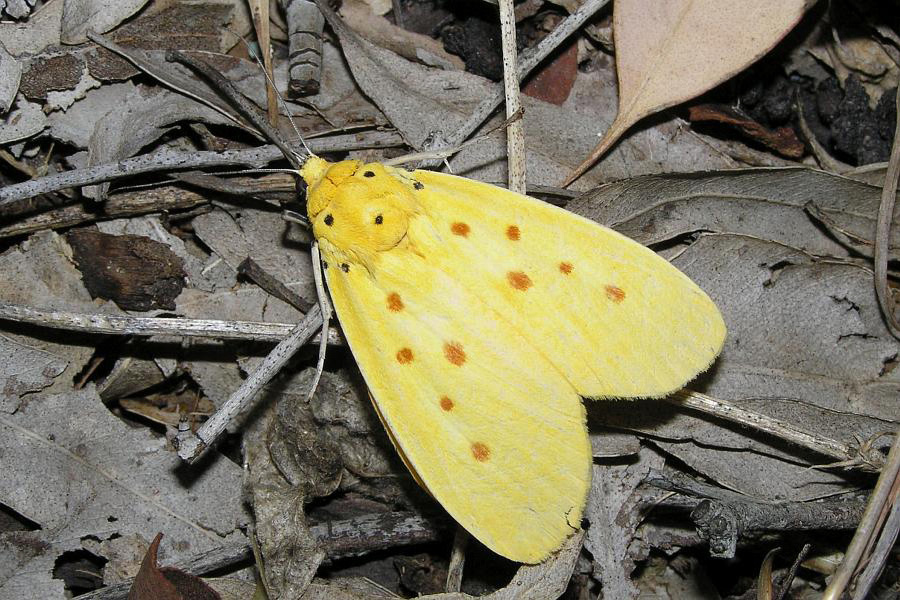Agape chloropyga: (123, 25, 736, 571)
moth: (125, 27, 738, 573)
